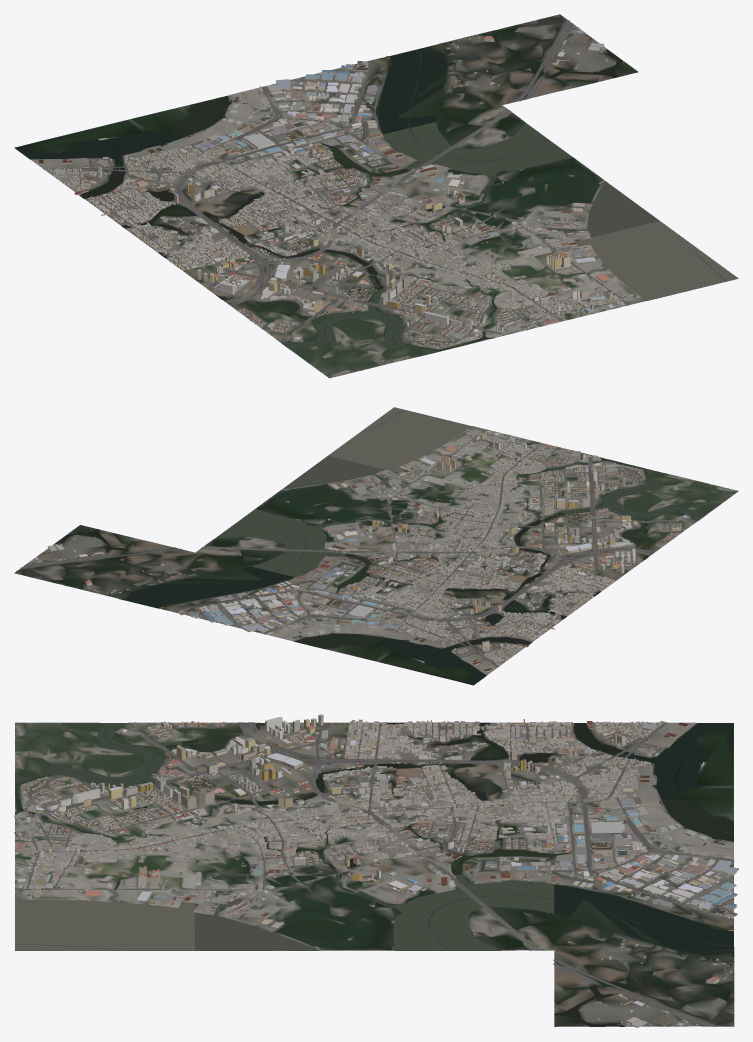
3 views of the same model, one above another, from view 1: azimuth 30°, elevation 25°; view 2: azimuth 150°, elevation 25°; view 3: azimuth 270°, elevation 25° (orthographic). The views are drawn at different scales.
Parts seen in each view (by area): view 1: ground, buildings, water, roads; view 2: ground, buildings, water, roads; view 3: ground, buildings, water, roads.
Part boxes in pixels (left/top/right/bottom): ground: left=16, top=14, right=738, bottom=378; buildings: left=38, top=26, right=638, bottom=348; water: left=14, top=26, right=738, bottom=369; roads: left=43, top=20, right=629, bottom=342; ground: left=14, top=418, right=738, bottom=684; buildings: left=29, top=429, right=687, bottom=671; water: left=36, top=407, right=710, bottom=685; roads: left=21, top=429, right=696, bottom=667; ground: left=15, top=722, right=734, bottom=1026; buildings: left=14, top=714, right=738, bottom=1027; water: left=15, top=722, right=733, bottom=1026; roads: left=14, top=722, right=734, bottom=1026.
Size of the model in its own units: 5668 by 108 by 5647.
